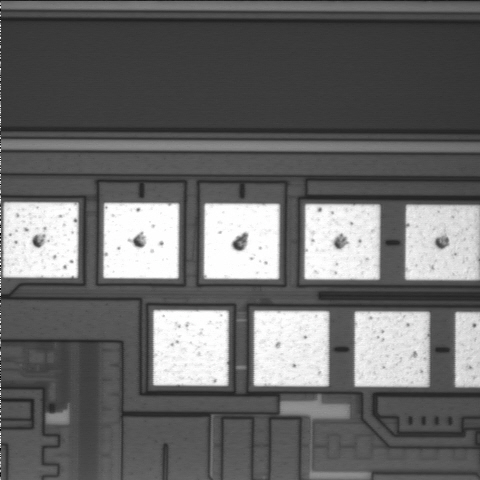pad: (3, 202, 79, 278), (103, 203, 179, 279), (204, 203, 280, 279), (304, 204, 380, 280), (153, 310, 229, 386), (254, 311, 329, 386), (355, 312, 430, 387)
